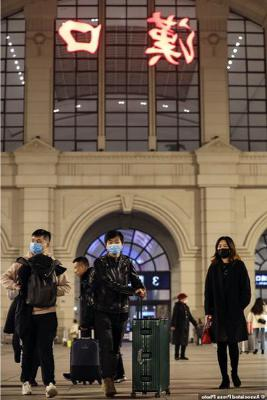with_mask: (29, 237, 46, 254), (106, 238, 121, 255), (217, 244, 230, 258)
without_mask: (73, 265, 81, 277)
